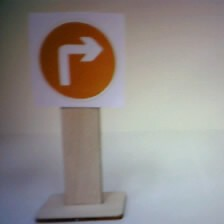right: (28, 15, 121, 106)
